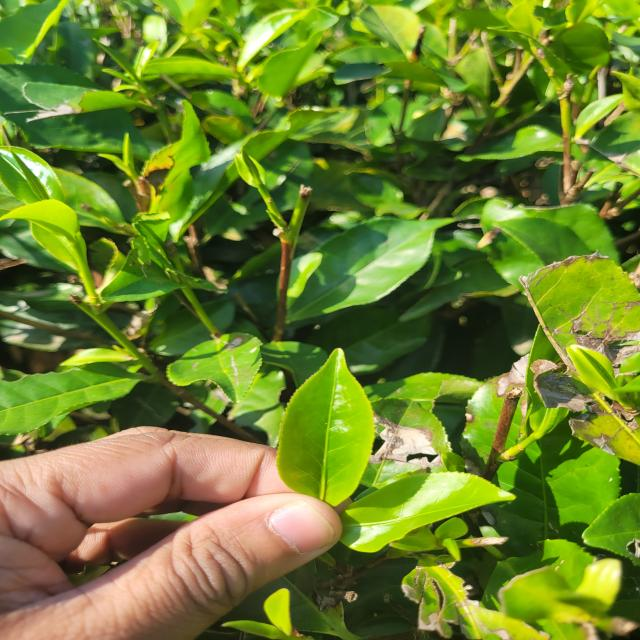Catagory A(1-2 days): (262, 341, 388, 517)
